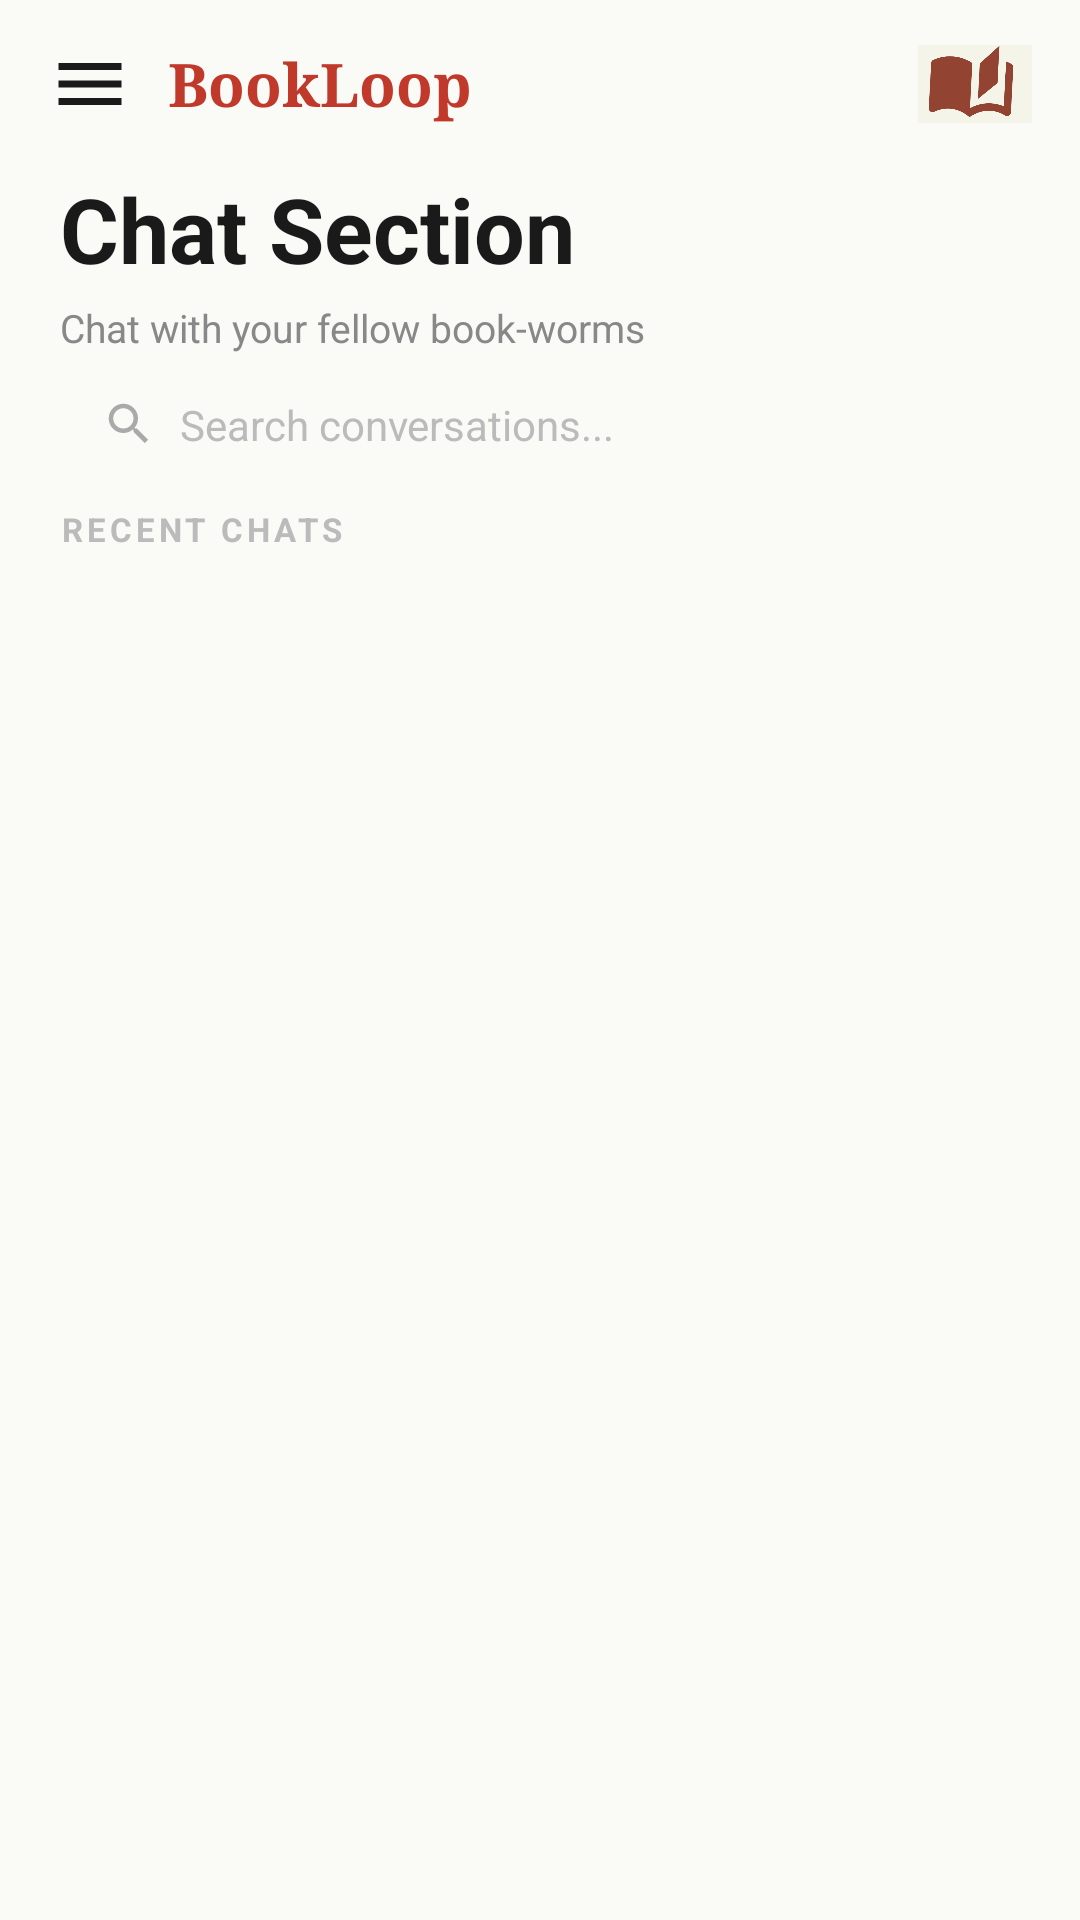

Icon bounding boxes for this 1080*1920 phone screenshot, format box=[x1, y1, x2, y2]:
Abrir menú: box=[58, 63, 122, 105]
